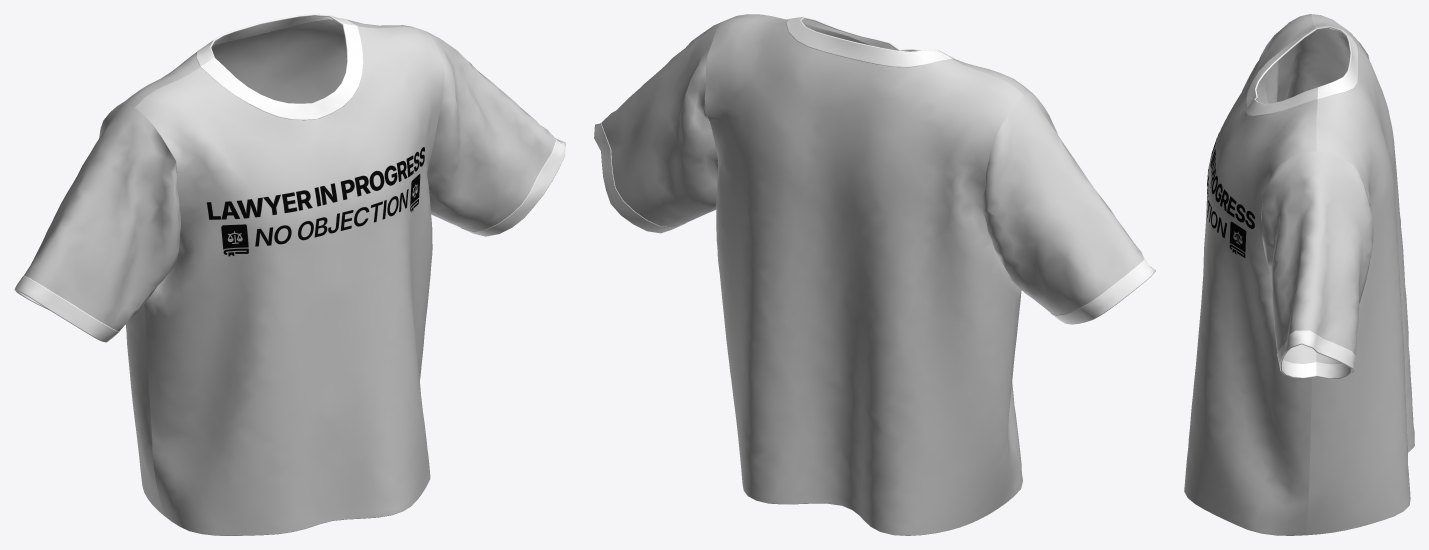
The model's file is lawyer.glb.
3 views of the same model, side by side, from view 1: azimuth 30°, elevation 25°; view 2: azimuth 150°, elevation 25°; view 3: azimuth 270°, elevation 25° (orthographic). The views are drawn at different scales.
Visible parts, largest first — view 1: lawyer; view 2: lawyer; view 3: lawyer.
Boxes of the visible parts, bbox=[...] form: lawyer: bbox=[14, 14, 565, 535]; lawyer: bbox=[594, 14, 1155, 535]; lawyer: bbox=[1184, 14, 1414, 535].
Size of the model in its own units: 1.49 by 1.17 by 0.571.
Materials: 3 (1 with a texture image).
